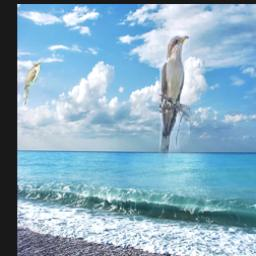Cuckoo: (159, 35, 190, 173), (24, 61, 43, 107)
